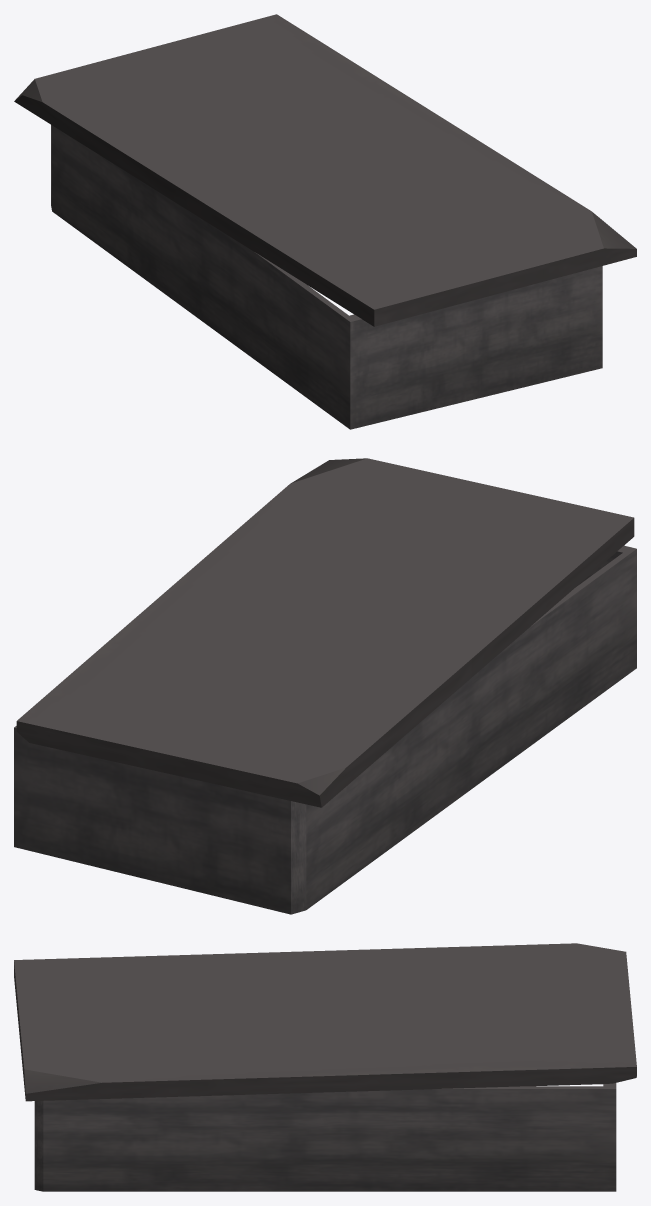
The model's file is F_Tomb_1.fbx.
The picture shows the model from 3 angles, top to bottom: view 1: azimuth 30°, elevation 25°; view 2: azimuth 150°, elevation 25°; view 3: azimuth 270°, elevation 25°; orthographic projection. The views are drawn at different scales.
Parts seen in each view (by area): view 1: F_Tomb_1; view 2: F_Tomb_1; view 3: F_Tomb_1.
Boxes of the visible parts, x1,y1,x2,y2 form: F_Tomb_1: (14,14,636,429); F_Tomb_1: (14,458,636,914); F_Tomb_1: (14,943,636,1191).
Bounding box in the file's own units: 4.67 × 0.981 × 2.54.
Materials: 1 (1 with a texture image).
